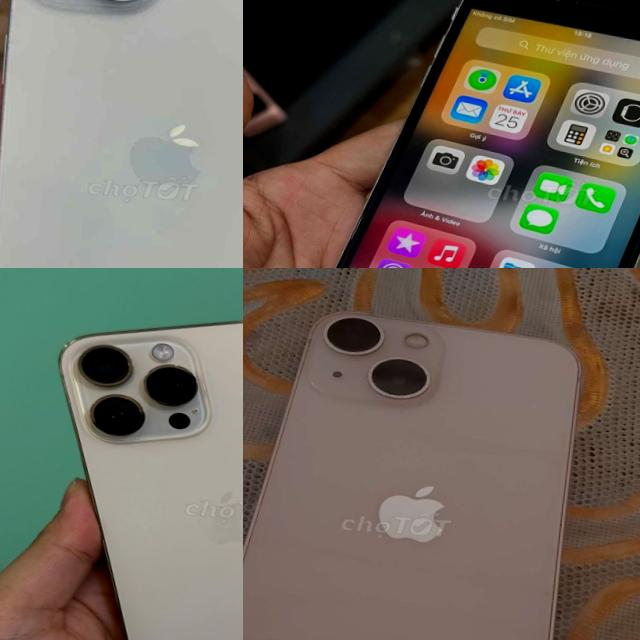gen_12_13: (243, 293, 598, 640)
gen_14: (17, 300, 243, 640)
gen_15: (0, 0, 243, 268)
gen_6: (334, 0, 640, 268)
